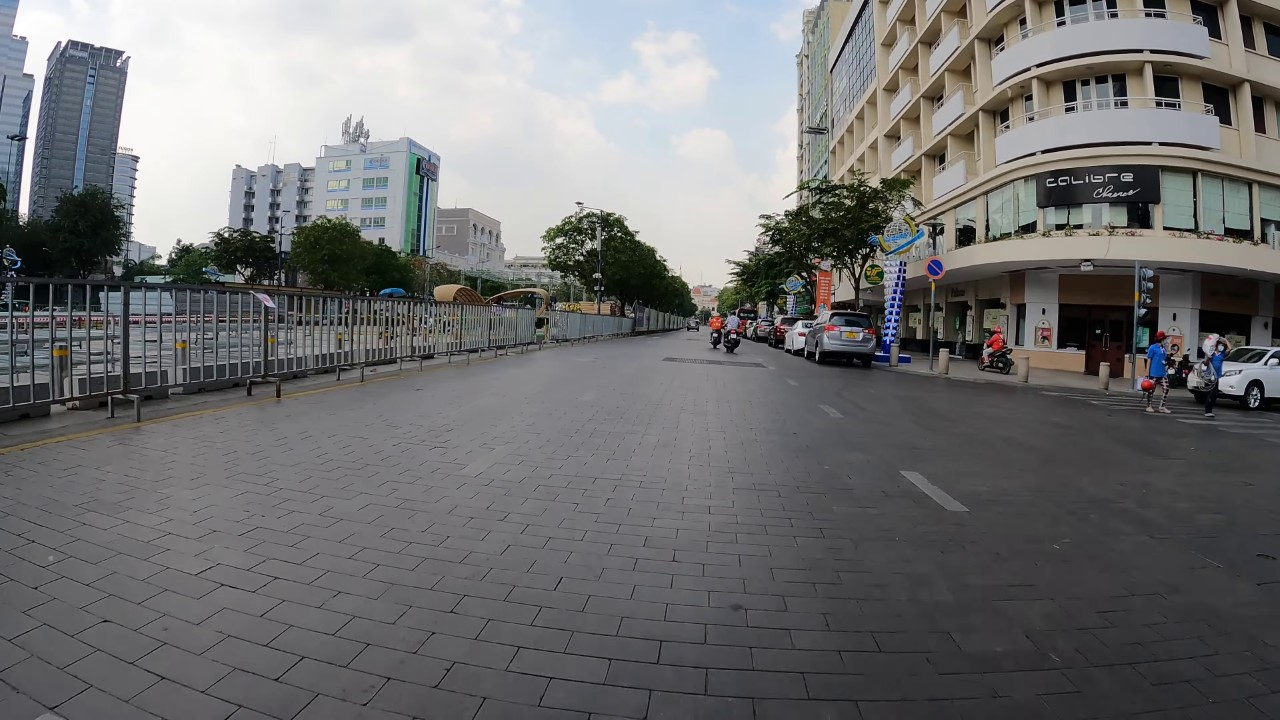cam_do_xe: (921, 255, 947, 282)
